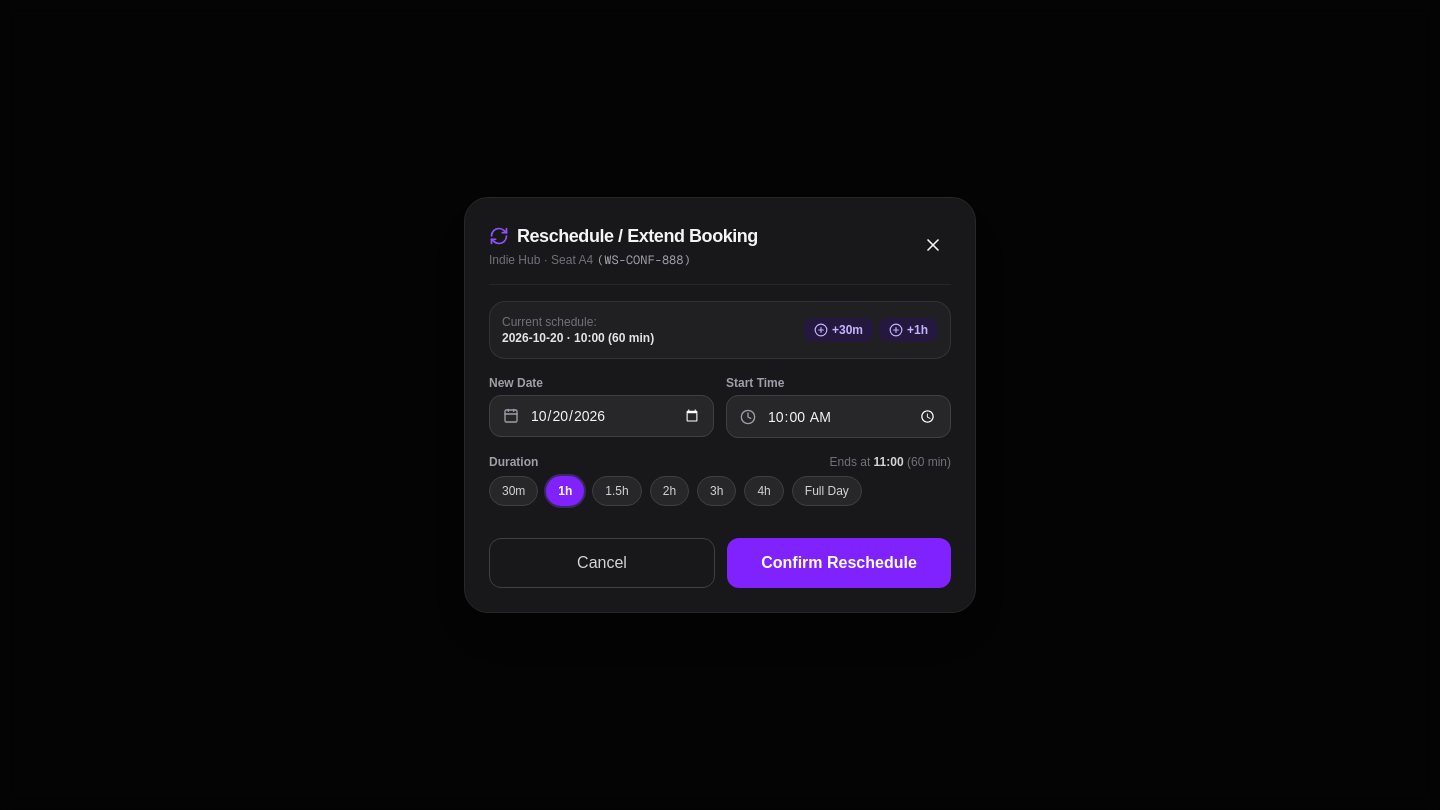
RescheduleModal Component › updates duration when quick extend buttons are clicked
Step 1. Click the button with test id "quick-extend-30m" → (838, 330), box x1=804 y1=318 x2=873 y2=342
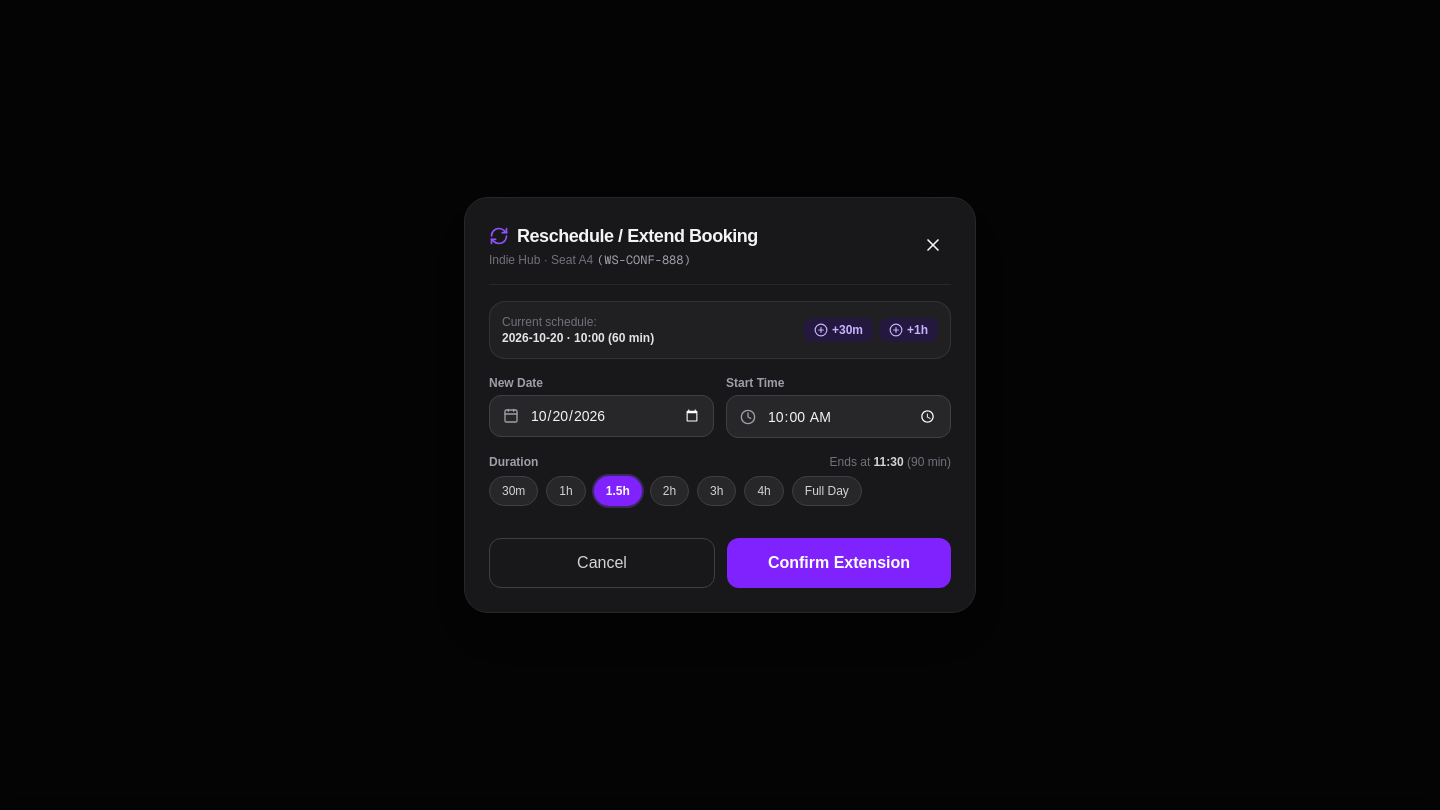
Result: the text "Ends at 11:30 (90 min)" is shown at x1=830 y1=454 x2=951 y2=470
Step 2. Click the button with test id "quick-extend-1h" → (908, 330), box x1=879 y1=318 x2=938 y2=342
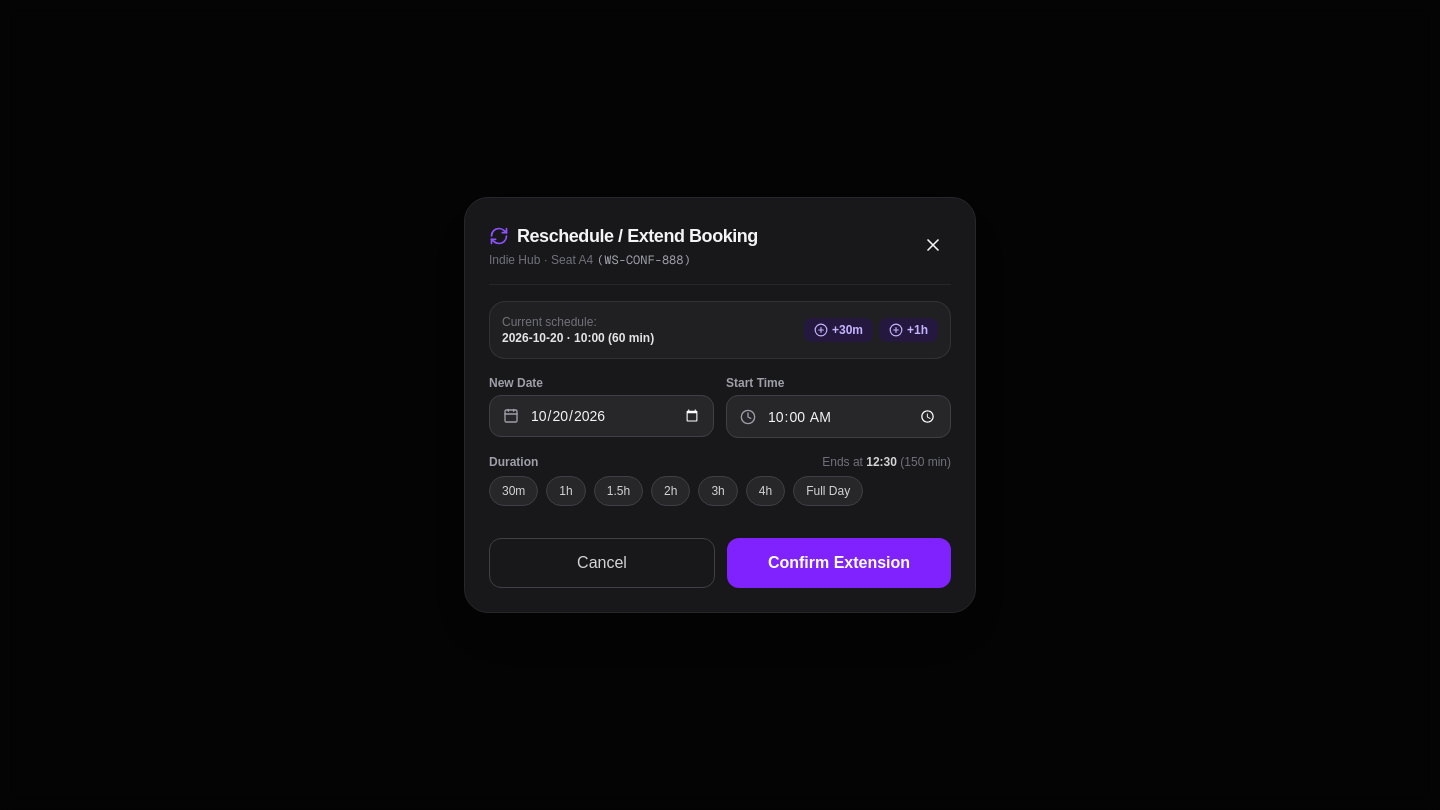
Result: the text "Ends at 12:30 (150 min)" is shown at x1=822 y1=454 x2=951 y2=470
